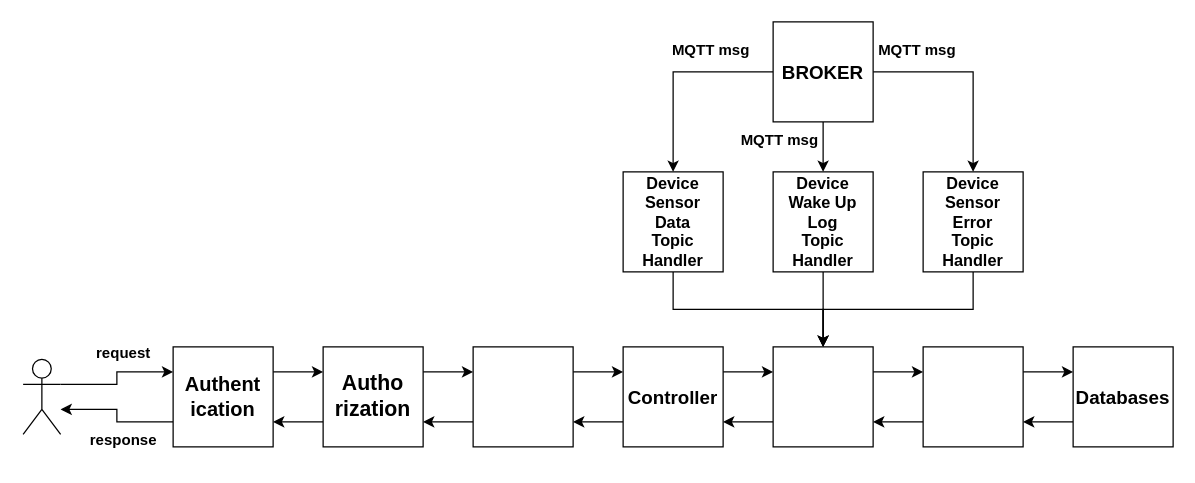
Image size: 1195x483. Some labels were removed from this diagram. Here are the shapes that lost their labels. From the top down, the centre of each, then its label:
At (x=41, y=396): "Client".
At (x=522, y=396): "Other Intercep tors".
At (x=822, y=396): "Services".
At (x=972, y=396): "Repositories".
